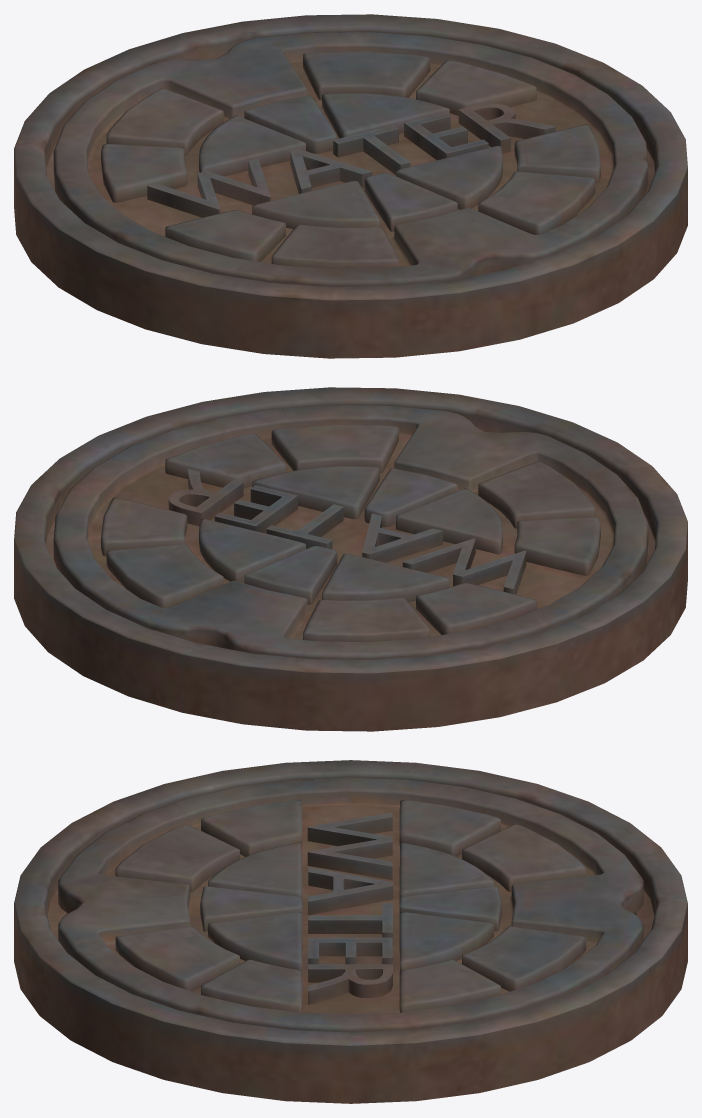
Rendered from water_manhole_cover.glb.
3 views of the same model, one above another, from view 1: azimuth 30°, elevation 25°; view 2: azimuth 150°, elevation 25°; view 3: azimuth 270°, elevation 25° (orthographic).
Visible parts, largest first — view 1: water_manhole_cover, water_manhole_cover_frame; view 2: water_manhole_cover, water_manhole_cover_frame; view 3: water_manhole_cover, water_manhole_cover_frame.
Boxes of the visible parts, bbox=[...] form: water_manhole_cover: bbox=[53, 32, 648, 286]; water_manhole_cover_frame: bbox=[14, 14, 687, 358]; water_manhole_cover: bbox=[53, 405, 648, 659]; water_manhole_cover_frame: bbox=[14, 387, 687, 731]; water_manhole_cover: bbox=[58, 777, 643, 1032]; water_manhole_cover_frame: bbox=[14, 760, 687, 1103].
Bounding box in the file's own units: 0.6908 × 0.0676 × 0.6908.
Materials: 1 (1 with a texture image).
